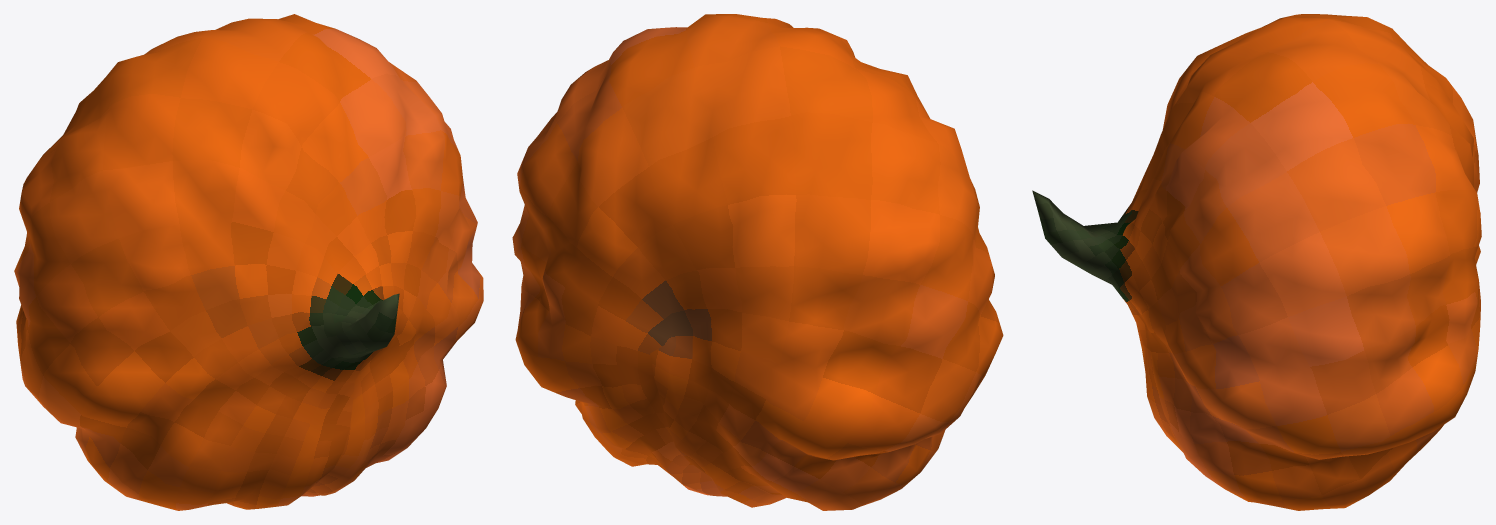
The model's file is pumpkin.gltf.
3 views of the same model, side by side, from view 1: azimuth 30°, elevation 25°; view 2: azimuth 150°, elevation 25°; view 3: azimuth 270°, elevation 25° (orthographic). The views are drawn at different scales.
Parts seen in each view (by area): view 1: pumpkin_low.000; view 2: pumpkin_low.000; view 3: pumpkin_low.000.
Boxes of the visible parts, box(x1,y1,x2,y2) form: pumpkin_low.000: box(14, 14, 483, 510); pumpkin_low.000: box(512, 14, 1003, 510); pumpkin_low.000: box(1032, 14, 1481, 510).
Bounding box in the file's own units: 0.88 × 0.8949 × 0.8289.
Materials: 1 (1 with a texture image).
